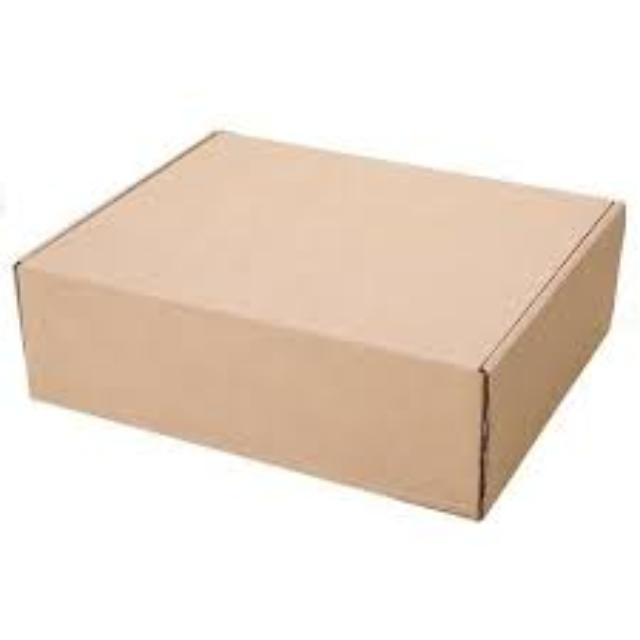cardboard paper: (11, 128, 620, 512)
